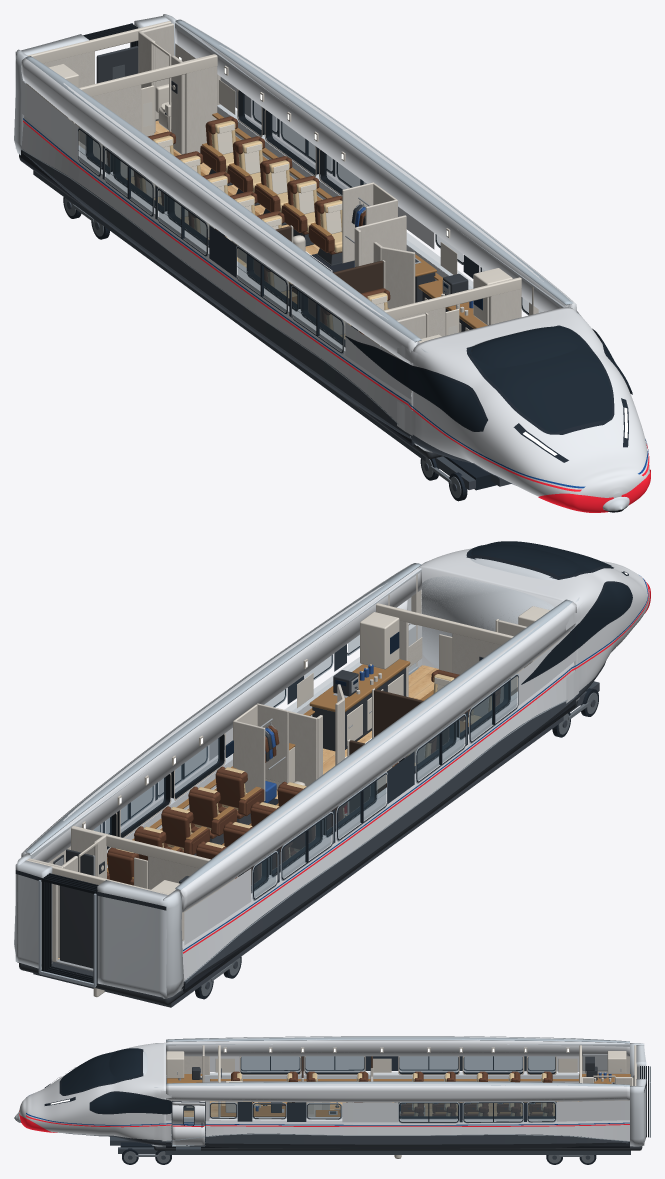
File: TOOOPblend.glb
3 renders of one model, top to bottom at view 1: azimuth 30°, elevation 25°; view 2: azimuth 150°, elevation 25°; view 3: azimuth 270°, elevation 25°, orthographic. The views are drawn at different scales.
Visible parts, largest first — view 1: VSM Unified continuous broad aerodynamic head shell, VSM Unified Left flowing lower body 0, VSM Unified Left shoulder and open top rail, VSM Unified Right shoulder and open top rail, VSM Unified dark swept cab windshield, VSM Unified Right finished inset cutaway rim, VSM Unified Left finished inset cutaway rim, VSM Unified left continuous cab-to-body unbroken smoked side, VSM cockpit smoked panoramic windshield, Partition right wing.002, VSM Unified Left rear end panel, Seat_R05_R_Single (+39 smaller); view 2: VSM Unified Left flowing lower body 0, VSM Unified Left shoulder and open top rail, VSM Unified Right shoulder and open top rail, VSM Unified continuous broad aerodynamic head shell, VSM Rear left swept nose cheek, VSM Head Car continuous aerodynamic nose shell, VSM Unified Right finished inset cutaway rim, VSM Unified Left finished inset cutaway rim, VSM Rear right swept nose cheek, Inter-car graphite sliding door.001, VSM Unified left continuous cab-to-body unbroken smoked side, VSM Unified Left rear end panel (+38 smaller); view 3: VSM Unified Right flowing lower body 1, VSM Unified Right shoulder and open top rail, VSM Unified Left shoulder and open top rail, VSM Unified continuous broad aerodynamic head shell, VSM Unified continuous recessed underframe, VSM Unified Left finished inset cutaway rim, VSM Unified Left flowing lower body 0, VSM Unified Right finished inset cutaway rim, VSM Unified Right rear end panel, VSM Unified dark swept cab windshield, VSM Unified right continuous cab-to-body unbroken smoked sid, Long continuous underfloor (+57 smaller).
Part boxes in pixels (left/top/right/bottom): VSM Unified continuous broad aerodynamic head shell: left=411, top=307, right=649, bottom=498; VSM Unified Left flowing lower body 0: left=21, top=116, right=416, bottom=445; VSM Unified Left shoulder and open top rail: left=21, top=58, right=420, bottom=364; VSM Unified Right shoulder and open top rail: left=175, top=20, right=576, bottom=311; VSM Unified dark swept cab windshield: left=469, top=326, right=612, bottom=432; VSM Unified Right finished inset cutaway rim: left=175, top=19, right=573, bottom=305; VSM Unified Left finished inset cutaway rim: left=25, top=56, right=421, bottom=342; VSM Unified left continuous cab-to-body unbroken smoked side: left=345, top=336, right=486, bottom=430; VSM cockpit smoked panoramic windshield: left=471, top=326, right=578, bottom=367; Partition right wing.002: left=185, top=66, right=217, bottom=153; VSM Unified Left rear end panel: left=21, top=80, right=78, bottom=159; Seat_R05_R_Single: left=308, top=196, right=342, bottom=265; VSM Unified Left flowing lower body 0: left=181, top=662, right=576, bottom=987; VSM Unified Left shoulder and open top rail: left=177, top=602, right=576, bottom=912; VSM Unified Right shoulder and open top rail: left=21, top=564, right=421, bottom=862; VSM Unified continuous broad aerodynamic head shell: left=420, top=548, right=649, bottom=684; VSM Rear left swept nose cheek: left=97, top=880, right=167, bottom=998; VSM Head Car continuous aerodynamic nose shell: left=421, top=558, right=572, bottom=667; VSM Unified Right finished inset cutaway rim: left=25, top=563, right=421, bottom=853; VSM Unified Left finished inset cutaway rim: left=175, top=599, right=572, bottom=890; VSM Rear right swept nose cheek: left=15, top=860, right=52, bottom=969; Inter-car graphite sliding door.001: left=60, top=885, right=93, bottom=968; VSM Unified left continuous cab-to-body unbroken smoked side: left=521, top=583, right=632, bottom=684; VSM Unified Left rear end panel: left=184, top=868, right=251, bottom=945; VSM Unified Right flowing lower body 1: left=205, top=1118, right=629, bottom=1148; VSM Unified Right shoulder and open top rail: left=166, top=1084, right=629, bottom=1102; VSM Unified Left shoulder and open top rail: left=166, top=1036, right=629, bottom=1056; VSM Unified continuous broad aerodynamic head shell: left=19, top=1042, right=165, bottom=1139; VSM Unified continuous recessed underframe: left=165, top=1150, right=630, bottom=1154; VSM Unified Left finished inset cutaway rim: left=166, top=1036, right=629, bottom=1043; VSM Unified Left flowing lower body 0: left=166, top=1071, right=579, bottom=1083; VSM Unified Right finished inset cutaway rim: left=166, top=1081, right=629, bottom=1086; VSM Unified Right rear end panel: left=556, top=1100, right=629, bottom=1121; VSM Unified dark swept cab windshield: left=61, top=1048, right=141, bottom=1094; VSM Unified right continuous cab-to-body unbroken smoked sid: left=89, top=1092, right=171, bottom=1113; Long continuous underfloor: left=154, top=1146, right=642, bottom=1150.
Size of what is drawn, in the model's own units: 4.63 by 4.07 by 23.72.
44 materials, 4 textured.
